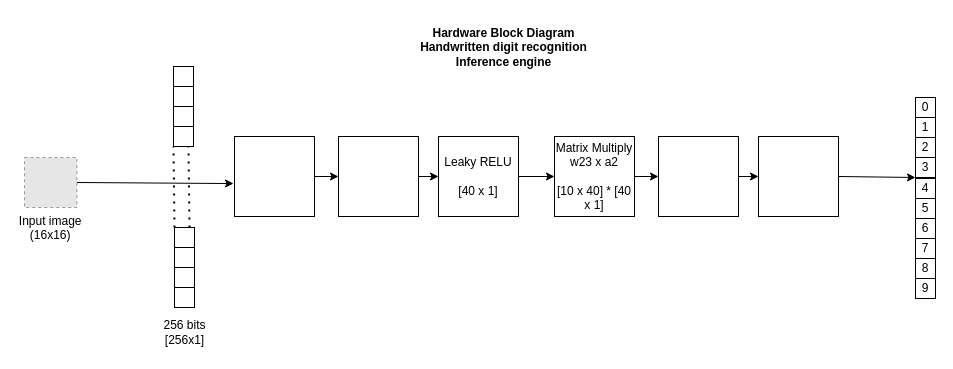
This 953x369 diagram has some shape labels left out. Grey dashed boxes stand in for pictures. The centre of each missing label's shape, as x and y in pixels:
"Bias add b12 [40 x 1]" goes at point 378,176.
"Bias add b23 [10 x 1]" goes at point 698,176.
"Leaky RELU [10 x 1]" goes at point 798,176.
"Matrix Multiply w12 x a1 40 x 256] * [256 x 1]" goes at point 274,176.
